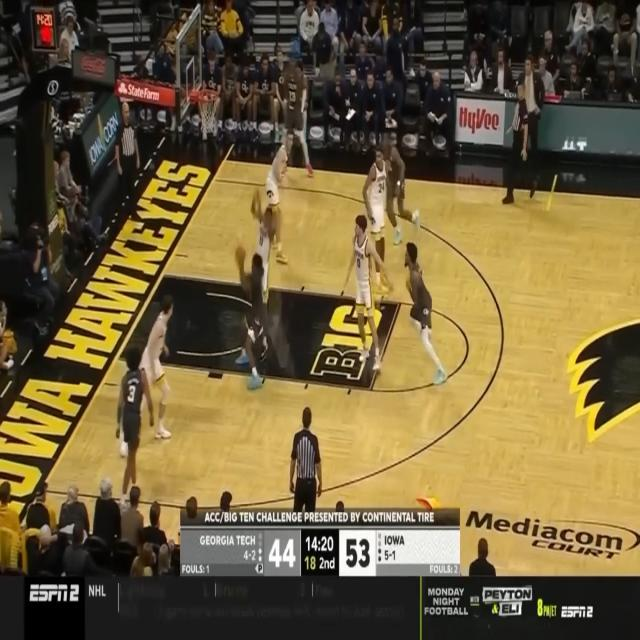Ball: (236, 246, 246, 264)
Clock: (30, 8, 56, 51)
Hoop: (198, 89, 220, 135)
Overlay: (0, 576, 640, 640), (180, 508, 460, 576)
Player: (120, 293, 174, 457), (343, 215, 395, 370), (115, 346, 155, 510), (404, 240, 448, 386), (250, 189, 282, 359), (362, 146, 395, 294), (235, 252, 269, 391), (381, 130, 420, 246), (282, 56, 315, 179), (267, 129, 294, 265)
Ref: (289, 407, 322, 561), (500, 82, 538, 203), (114, 100, 143, 222)
Scoreboard: (180, 530, 460, 576)
